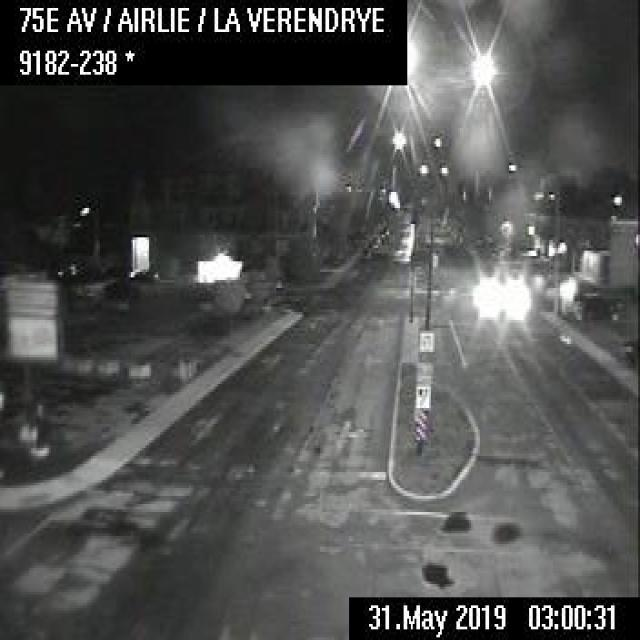vehicle: (573, 288, 623, 321), (127, 266, 158, 284)
